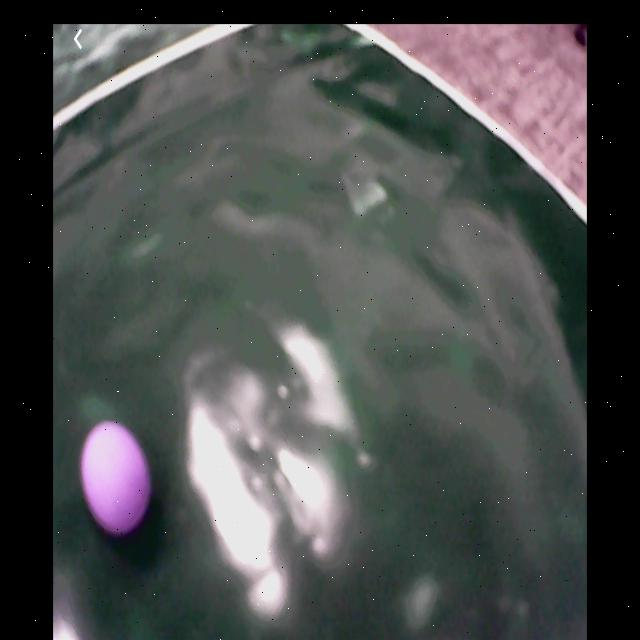ball: (83, 423, 153, 541)
